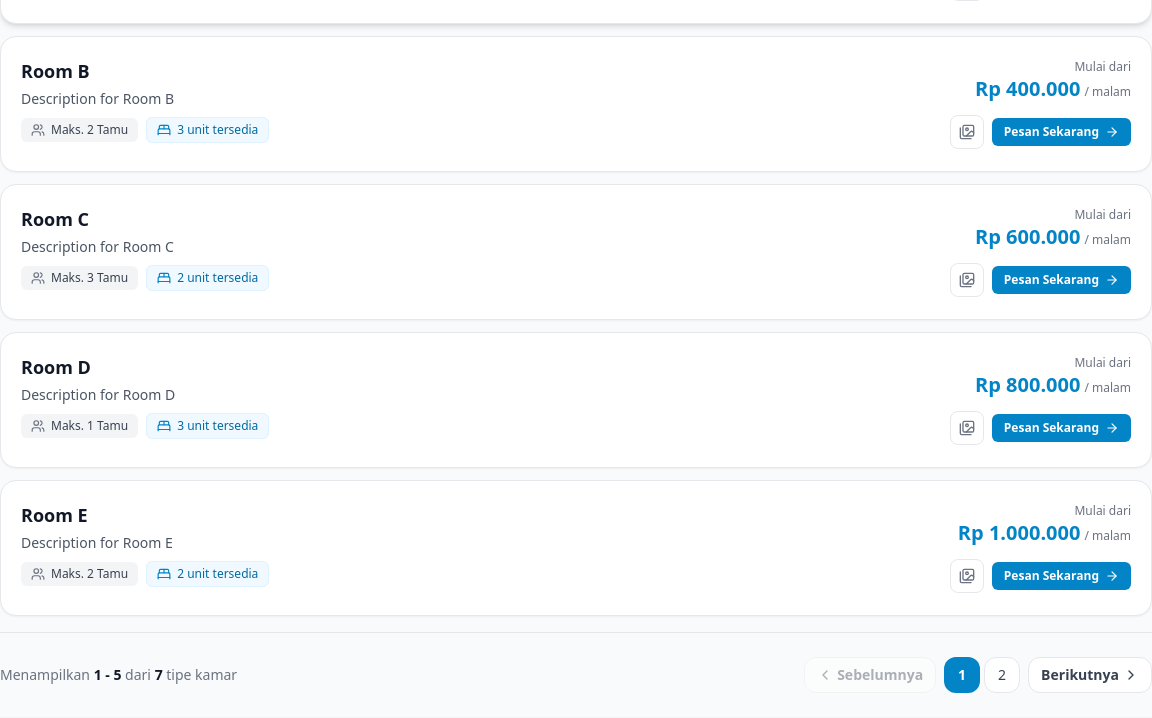
Test: paginates rooms when count exceeds page size
The image size is (1152, 718).
(page scrolled)
Expected: the text "Room F" is not shown
Click the button named "Halaman 2" at (1002, 675), box [984,657,1020,693]
(page scrolled)
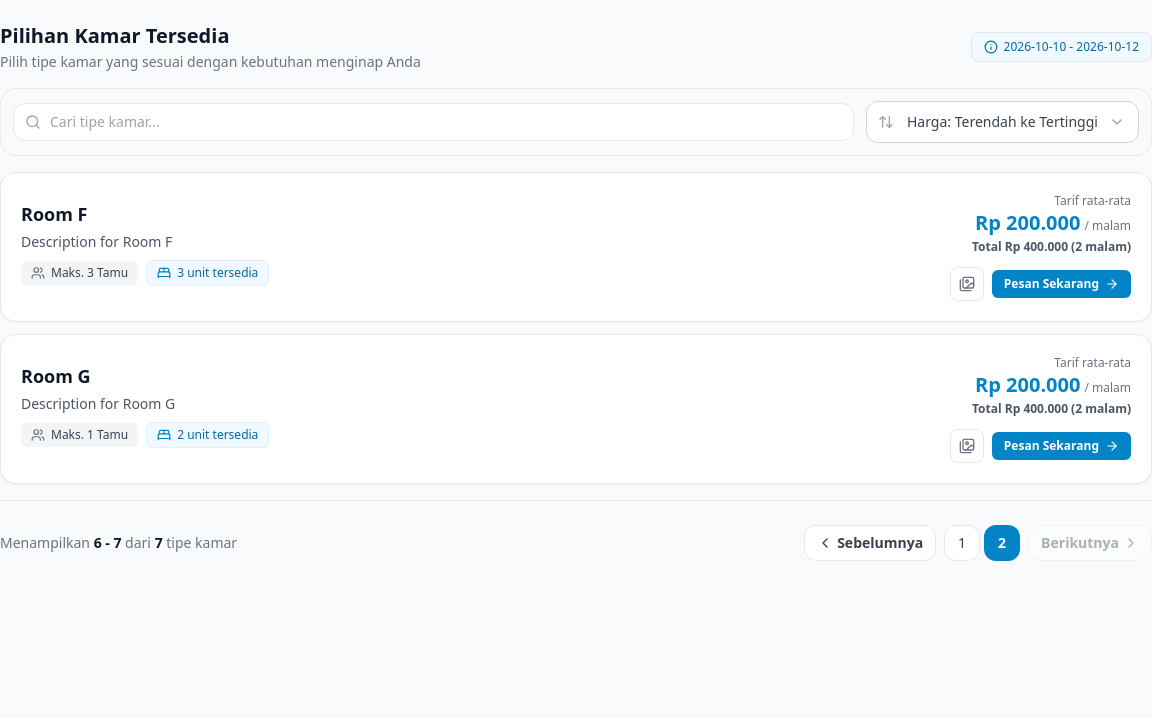
Now the heading "Room F" is shown, box [21,202,87,226]
